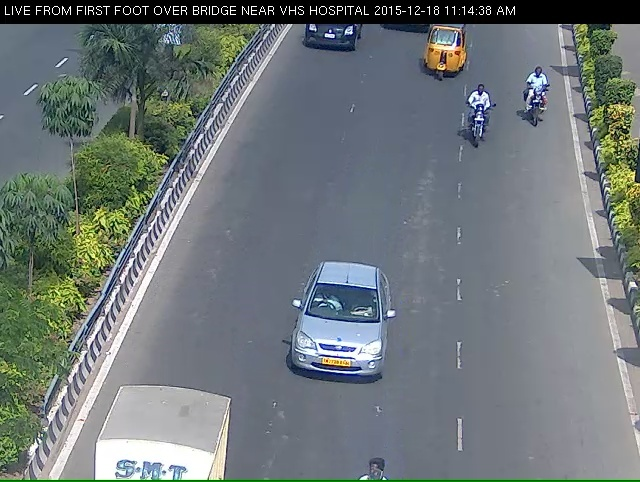Car: (283, 273, 390, 408), (424, 18, 471, 81), (295, 22, 357, 57)
Person: (462, 84, 494, 153), (526, 70, 552, 133)
